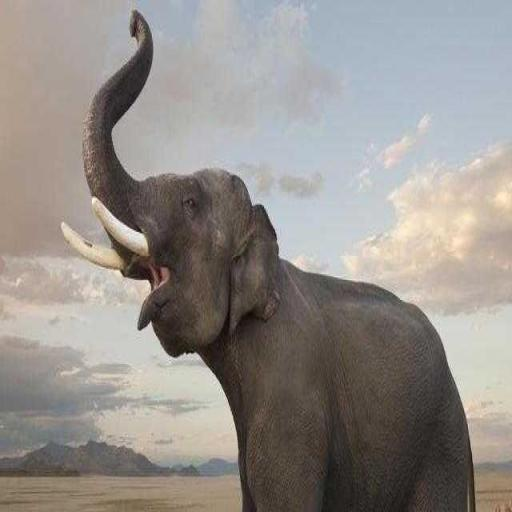Rhino: (59, 7, 477, 511)
